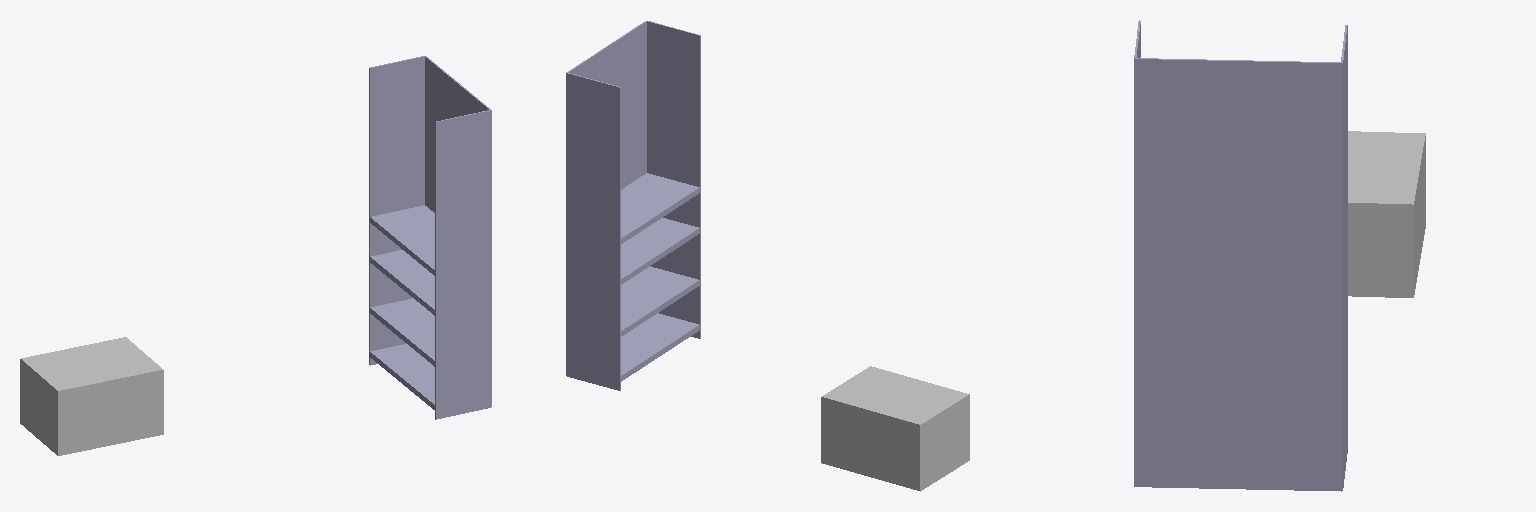
robot.urdf — kitchen_description:
<?xml version="1.0" ?>
<!-- =================================================================================== -->
<!-- |    This document was autogenerated by xacro from urdf/HSR_robocup.urdf.xacro    | -->
<!-- |    EDITING THIS FILE BY HAND IS NOT RECOMMENDED                                 | -->
<!-- =================================================================================== -->
<robot name="kitchen_description" xmlns:xacro="http://ros.org/wiki/xacro">
  <link name="env_origin"/>
  <material name="table_grey">
    <color rgba="0.8 0.8 0.8 1"/>
  </material>
  <!-- LINKS -->
  <link name="table_center">
    <visual>
      <material name="table_grey"/>
      <origin rpy="0 0 0" xyz="0 0 0"/>
      <geometry>
        <box size="0.55 0.75 0.46"/>
      </geometry>
    </visual>
    <collision>
      <origin rpy="0 0 0" xyz="0 0 0"/>
      <geometry>
        <box size="0.55 0.75 0.46"/>
      </geometry>
    </collision>
  </link>
  <link name="table_origin"/>
  <!-- Additional tf-frames -->
  <link name="table_surface_center"/>
  <link name="table_front_edge_center"/>
  <!-- JOINTS -->
  <joint name="table_origin_joint" type="fixed">
    <origin rpy="0 0 1.5" xyz="-1.62 0.57 0.0"/>
    <parent link="env_origin"/>
    <child link="table_origin"/>
  </joint>
  <joint name="table_center_joint" type="fixed">
    <origin rpy="0 0 0" xyz="0.275 0.375 0.23"/>
    <parent link="table_origin"/>
    <child link="table_center"/>
  </joint>
  <joint name="table_surface_center_joint" type="fixed">
    <origin rpy="0 0 0" xyz="0.275 0.375 0.46"/>
    <parent link="table_origin"/>
    <child link="table_surface_center"/>
  </joint>
  <joint name="table_front_edge_center_joint" type="fixed">
    <origin rpy="0 0 0" xyz="0 0.375 0.46"/>
    <parent link="table_origin"/>
    <child link="table_front_edge_center"/>
  </joint>
  <material name="shelf_grey">
    <color rgba="0.7 0.7 0.8 1"/>
  </material>
  <!-- General conveinience links -->
  <link name="shelf_origin"/>
  <link name="shelf_center"/>
  <link name="shelf_base_center"/>
  <joint name="shelf_origin_joint" type="fixed">
    <origin rpy="0 0 -0.05" xyz="0.0 -0.1 0.0"/>
    <parent link="env_origin"/>
    <child link="shelf_origin"/>
  </joint>
  <joint name="shelf_center_joint" type="fixed">
    <origin rpy="0 0 0" xyz="0.2 0.46 1.05"/>
    <parent link="shelf_origin"/>
    <child link="shelf_center"/>
  </joint>
  <joint name="shelf_base_center_joint" type="fixed">
    <origin rpy="0 0 0" xyz="0.2 0.46 0.0"/>
    <parent link="shelf_origin"/>
    <child link="shelf_base_center"/>
  </joint>
  <!-- LINK -->
  <link name="shelf_back_piece">
    <visual>
      <material name="shelf_grey"/>
      <origin rpy="0 0 0" xyz="0 0 0.0"/>
      <geometry>
        <box size="0.01 0.92 2.1"/>
      </geometry>
    </visual>
    <collision>
      <origin rpy="0 0 0" xyz="0 0 0.0"/>
      <geometry>
        <box size="0.01 0.92 2.1"/>
      </geometry>
    </collision>
  </link>
  <!-- JOINT -->
  <joint name="shelf_back_piece_joint" type="fixed">
    <origin rpy="0 0 0" xyz="0.4 0.46 1.05"/>
    <parent link="shelf_origin"/>
    <child link="shelf_back_piece"/>
  </joint>
  <!-- LINK -->
  <link name="shelf_right_side_piece">
    <visual>
      <material name="shelf_grey"/>
      <origin rpy="0 0 0" xyz="0 0 0.0"/>
      <geometry>
        <box size="0.4 0.01 2.1"/>
      </geometry>
    </visual>
    <collision>
      <origin rpy="0 0 0" xyz="0 0 0.0"/>
      <geometry>
        <box size="0.4 0.01 2.1"/>
      </geometry>
    </collision>
  </link>
  <!-- JOINT -->
  <joint name="shelf_right_side_piece_joint" type="fixed">
    <origin rpy="0 0 0" xyz="0.2 0.0 1.05"/>
    <parent link="shelf_origin"/>
    <child link="shelf_right_side_piece"/>
  </joint>
  <!-- LINK -->
  <link name="shelf_left_side_piece">
    <visual>
      <material name="shelf_grey"/>
      <origin rpy="0 0 0" xyz="0 0 0.0"/>
      <geometry>
        <box size="0.4 0.01 2.1"/>
      </geometry>
    </visual>
    <collision>
      <origin rpy="0 0 0" xyz="0 0 0.0"/>
      <geometry>
        <box size="0.4 0.01 2.1"/>
      </geometry>
    </collision>
  </link>
  <!-- JOINT -->
  <joint name="shelf_left_side_piece_joint" type="fixed">
    <origin rpy="0 0 0" xyz="0.2 0.92 1.05"/>
    <parent link="shelf_origin"/>
    <child link="shelf_left_side_piece"/>
  </joint>
  <!-- LINK -->
  <link name="shelf_floor_0_piece">
    <visual>
      <material name="shelf_grey"/>
      <origin rpy="0 0 0" xyz="0 0 -0.02"/>
      <geometry>
        <box size="0.4 0.92 0.04"/>
      </geometry>
    </visual>
    <collision>
      <origin rpy="0 0 0" xyz="0 0 -0.02"/>
      <geometry>
        <box size="0.4 0.92 0.04"/>
      </geometry>
    </collision>
  </link>
  <!-- JOINT -->
  <joint name="shelf_floor_0_piece_joint" type="fixed">
    <origin rpy="0 0 0" xyz="0.0 0.0 0.1"/>
    <parent link="shelf_base_center"/>
    <child link="shelf_floor_0_piece"/>
  </joint>
  <!-- LINK -->
  <link name="shelf_floor_1_piece">
    <visual>
      <material name="shelf_grey"/>
      <origin rpy="0 0 0" xyz="0 0 -0.02"/>
      <geometry>
        <box size="0.4 0.92 0.04"/>
      </geometry>
    </visual>
    <collision>
      <origin rpy="0 0 0" xyz="0 0 -0.02"/>
      <geometry>
        <box size="0.4 0.92 0.04"/>
      </geometry>
    </collision>
  </link>
  <!-- JOINT -->
  <joint name="shelf_floor_1_piece_joint" type="fixed">
    <origin rpy="0 0 0" xyz="0.0 0.0 0.41"/>
    <parent link="shelf_base_center"/>
    <child link="shelf_floor_1_piece"/>
  </joint>
  <!-- LINK -->
  <link name="shelf_floor_2_piece">
    <visual>
      <material name="shelf_grey"/>
      <origin rpy="0 0 0" xyz="0 0 -0.02"/>
      <geometry>
        <box size="0.4 0.92 0.04"/>
      </geometry>
    </visual>
    <collision>
      <origin rpy="0 0 0" xyz="0 0 -0.02"/>
      <geometry>
        <box size="0.4 0.92 0.04"/>
      </geometry>
    </collision>
  </link>
  <!-- JOINT -->
  <joint name="shelf_floor_2_piece_joint" type="fixed">
    <origin rpy="0 0 0" xyz="0.0 0.0 0.77"/>
    <parent link="shelf_base_center"/>
    <child link="shelf_floor_2_piece"/>
  </joint>
  <!-- LINK -->
  <link name="shelf_floor_3_piece">
    <visual>
      <material name="shelf_grey"/>
      <origin rpy="0 0 0" xyz="0 0 -0.02"/>
      <geometry>
        <box size="0.4 0.92 0.04"/>
      </geometry>
    </visual>
    <collision>
      <origin rpy="0 0 0" xyz="0 0 -0.02"/>
      <geometry>
        <box size="0.4 0.92 0.04"/>
      </geometry>
    </collision>
  </link>
  <!-- JOINT -->
  <joint name="shelf_floor_3_piece_joint" type="fixed">
    <origin rpy="0 0 0" xyz="0.0 0.0 1.05"/>
    <parent link="shelf_base_center"/>
    <child link="shelf_floor_3_piece"/>
  </joint>
</robot>

--- Render facts (derived) ---
Views: 3 orthographic renders of the robot side by side, from view 1: azimuth 30°, elevation 25°; view 2: azimuth 150°, elevation 25°; view 3: azimuth 270°, elevation 25°.
Model kitchen_description with 15 links and 14 joints (14 fixed), rooted at env_origin, posed every joint at zero.
Visible links, largest first — view 1: shelf_right_side_piece, table_center, shelf_left_side_piece, shelf_back_piece, shelf_floor_3_piece, shelf_floor_1_piece, shelf_floor_0_piece, shelf_floor_2_piece; view 2: shelf_left_side_piece, table_center, shelf_right_side_piece, shelf_back_piece, shelf_floor_3_piece, shelf_floor_1_piece, shelf_floor_0_piece, shelf_floor_2_piece; view 3: shelf_back_piece, table_center, shelf_left_side_piece, shelf_right_side_piece.
Link boxes in pixels (box(x1,y1,x2,y2)): shelf_right_side_piece: box(435, 110, 490, 419); table_center: box(20, 337, 163, 455); shelf_left_side_piece: box(369, 56, 424, 365); shelf_back_piece: box(425, 56, 491, 406); shelf_floor_3_piece: box(370, 205, 434, 275); shelf_floor_1_piece: box(370, 298, 434, 366); shelf_floor_0_piece: box(370, 344, 434, 409); shelf_floor_2_piece: box(370, 250, 434, 315); shelf_left_side_piece: box(567, 73, 620, 390); table_center: box(821, 366, 969, 491); shelf_right_side_piece: box(647, 21, 700, 338); shelf_back_piece: box(566, 21, 646, 375); shelf_floor_3_piece: box(621, 173, 699, 243); shelf_floor_1_piece: box(621, 266, 699, 336); shelf_floor_0_piece: box(621, 313, 699, 381); shelf_floor_2_piece: box(621, 218, 699, 284); shelf_back_piece: box(1135, 58, 1341, 491); table_center: box(1348, 131, 1425, 297); shelf_left_side_piece: box(1341, 25, 1347, 490); shelf_right_side_piece: box(1134, 20, 1140, 486).
Bounding box of the posed robot: 2.82 × 1.3 × 2.1 m (x, y, z).
Geometry: primitives only (box / cylinder / sphere), no mesh files.